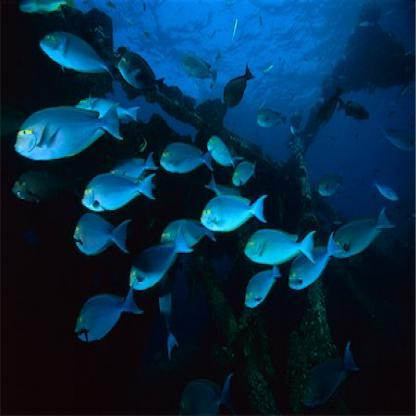surgeon: (10, 99, 132, 166), (38, 25, 113, 87), (326, 202, 402, 263), (77, 283, 141, 344), (81, 173, 161, 216), (201, 192, 272, 232), (244, 224, 318, 262), (72, 211, 132, 257), (159, 145, 218, 175)
